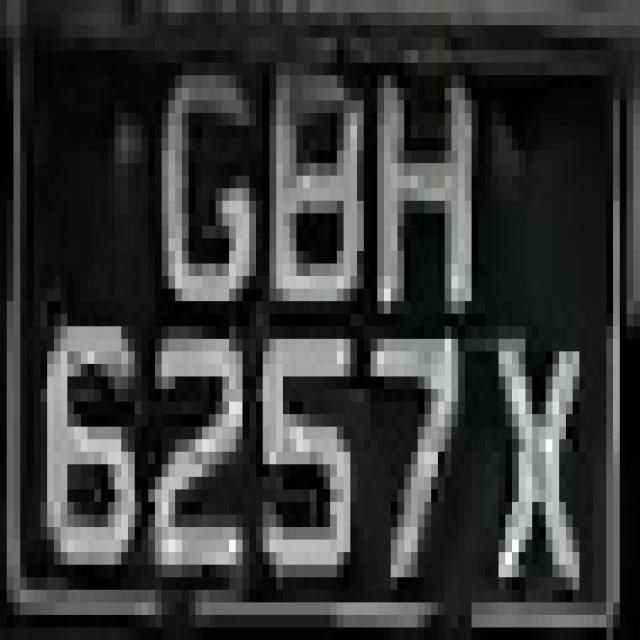2: (134, 301, 262, 640)
5: (242, 301, 364, 590)
6: (27, 276, 148, 602)
7: (344, 276, 472, 602)
B: (250, 50, 378, 326)
G: (155, 25, 269, 351)
H: (371, 38, 485, 338)
X: (485, 301, 593, 615)
